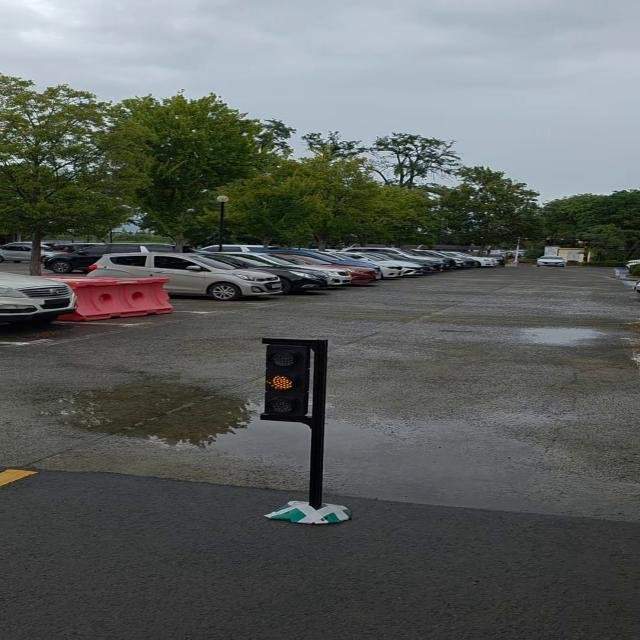yellow: (266, 341, 310, 421)
